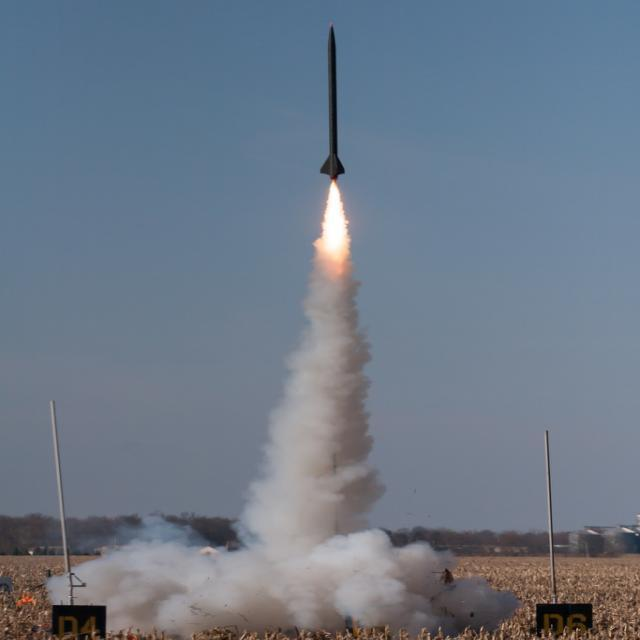Missile: (319, 21, 346, 182)
